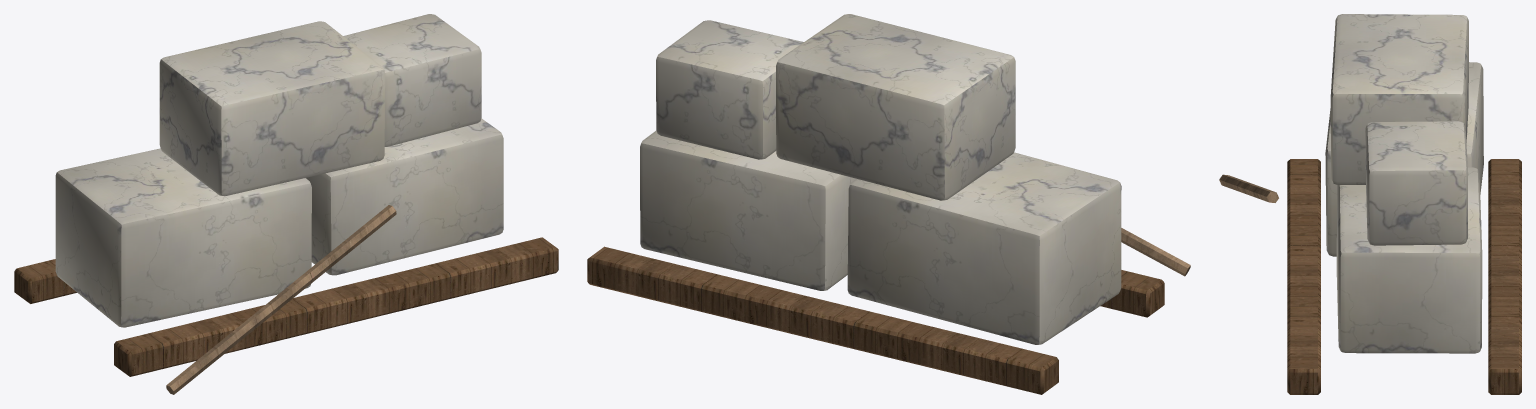
File: build_stone-blocks_t1.glb
3 views of the same model, side by side, from view 1: azimuth 30°, elevation 25°; view 2: azimuth 150°, elevation 25°; view 3: azimuth 270°, elevation 25° (orthographic). The views are drawn at different scales.
Visible parts, largest first — view 1: marble, wood_dark, wood; view 2: marble, wood_dark, wood; view 3: marble, wood_dark, wood.
Part boxes in pixels (x1,y1,x2,y2): marble: (55, 14, 503, 327); wood_dark: (14, 237, 558, 376); wood: (166, 205, 396, 394); marble: (640, 14, 1121, 344); wood_dark: (587, 246, 1164, 394); wood: (1121, 228, 1190, 276); marble: (1325, 14, 1483, 353); wood_dark: (1287, 159, 1521, 394); wood: (1219, 174, 1278, 202).
Bounding box in the file's own units: 2.1 × 1.06 × 1.27.
Materials: 3 (3 with a texture image).
